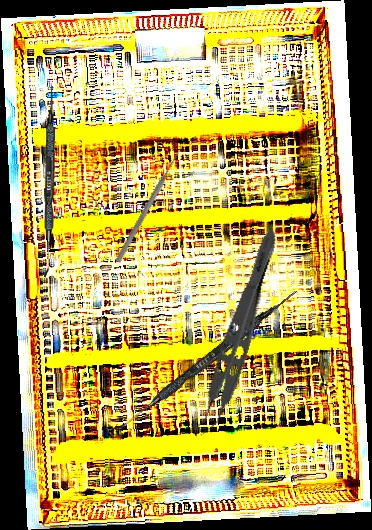Pusher: (114, 148, 183, 264)
Spatula Surgical: (111, 283, 300, 440), (44, 86, 55, 277)
Tissue Forceps: (188, 221, 283, 442)
